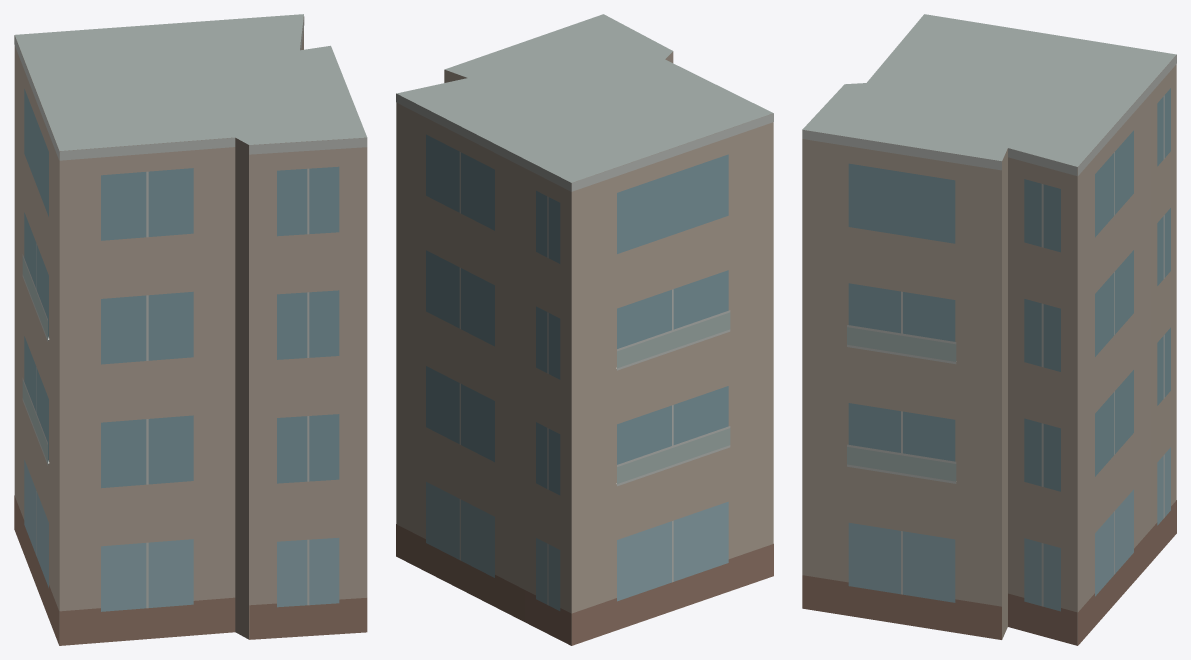
File: survey-upis-32905711.glb
3 renders of one model, left to right at view 1: azimuth 30°, elevation 25°; view 2: azimuth 150°, elevation 25°; view 3: azimuth 270°, elevation 25°, orthographic. The views are drawn at different scales.
Visible parts, largest first — view 1: survey-upis-32905711.tmp; view 2: survey-upis-32905711.tmp; view 3: survey-upis-32905711.tmp.
Boxes of the visible parts, x1,y1,x2,y2 form: survey-upis-32905711.tmp: [14, 14, 367, 645]; survey-upis-32905711.tmp: [396, 14, 773, 645]; survey-upis-32905711.tmp: [802, 14, 1176, 645].
Size of the model in its own units: 8.65 by 12.6 by 8.94.
